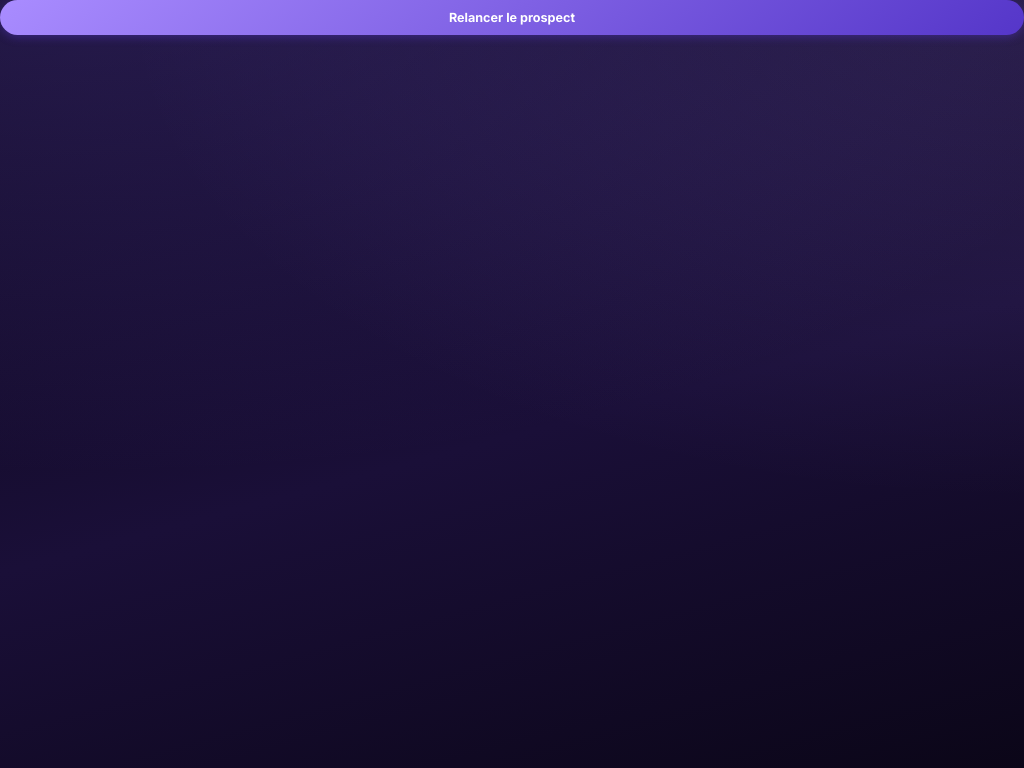
it: relance : relire avant d’envoyer › n’envoie rien au premier clic, et ouvre le message
Click the button "Relancer le prospect": (512, 17) [0,0,1023,35]
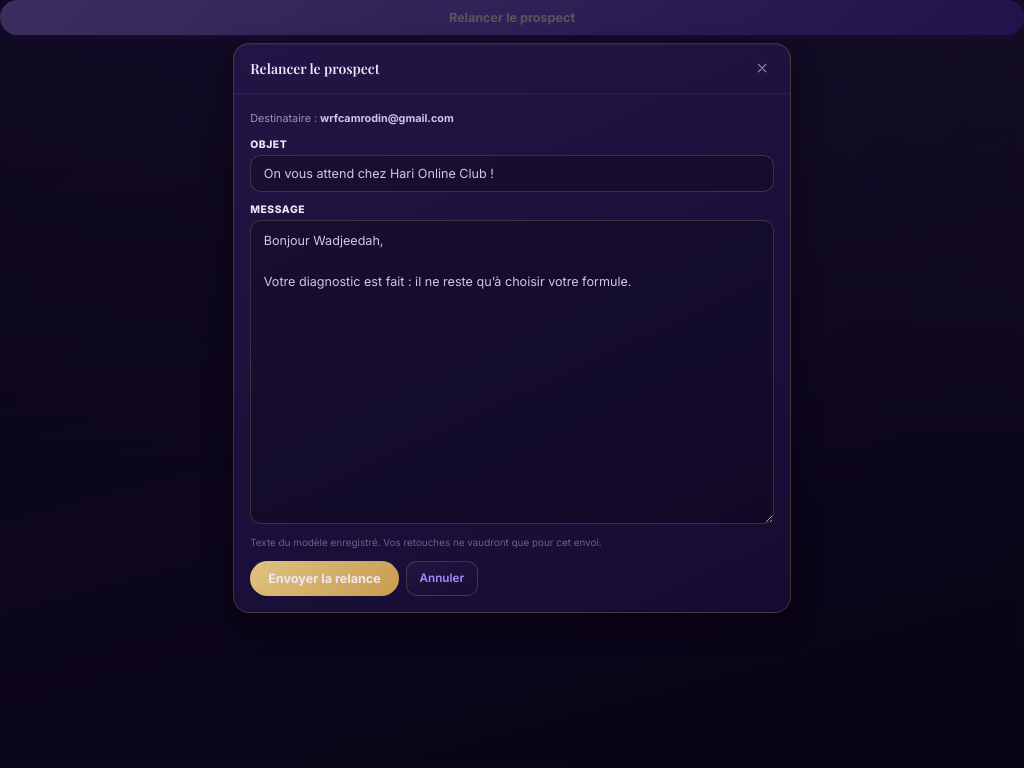
Expected: the text box labelled "Message" is shown, [250,220,774,524]
